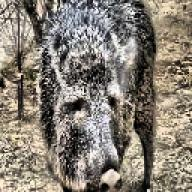boar: (34, 0, 158, 192)
